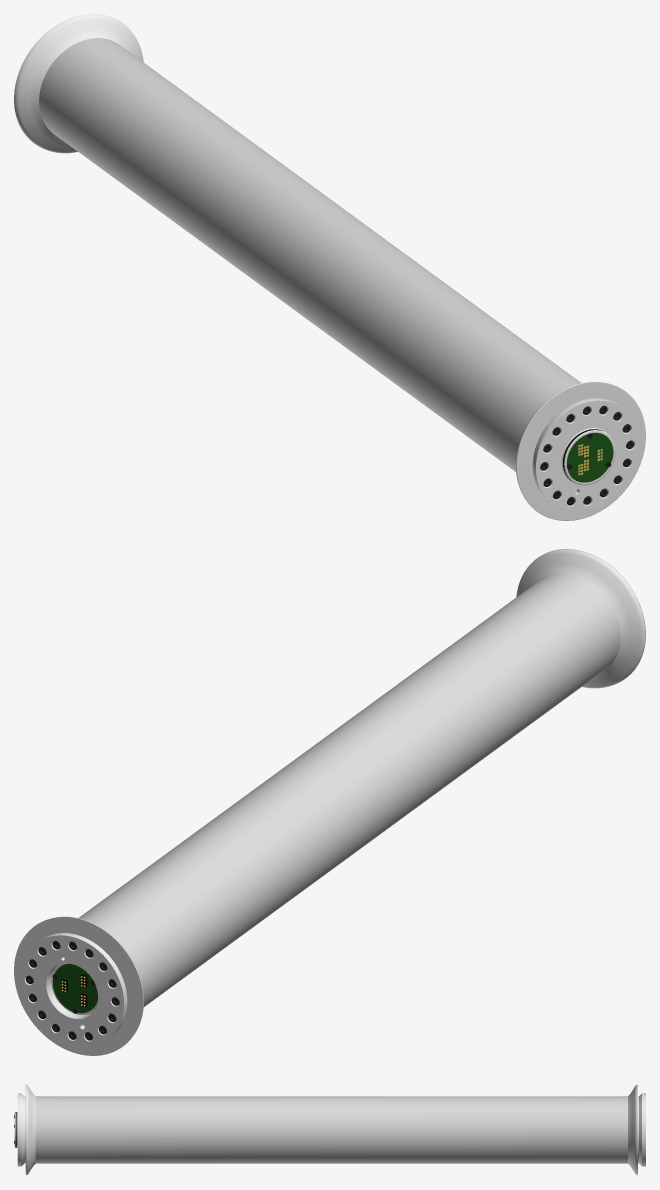
The picture shows the model from 3 angles, top to bottom: view 1: azimuth 30°, elevation 25°; view 2: azimuth 150°, elevation 25°; view 3: azimuth 270°, elevation 25°; orthographic projection. The views are drawn at different scales.
Visible parts, largest first — view 1: I116.001; view 2: I116.001; view 3: I116.001.
Part boxes in pixels (x1,y1,x2,y2): I116.001: [14, 14, 645, 520]; I116.001: [14, 549, 645, 1055]; I116.001: [14, 1084, 645, 1175].
Size of the model in its own units: 0.116 by 0.116 by 0.8047.
